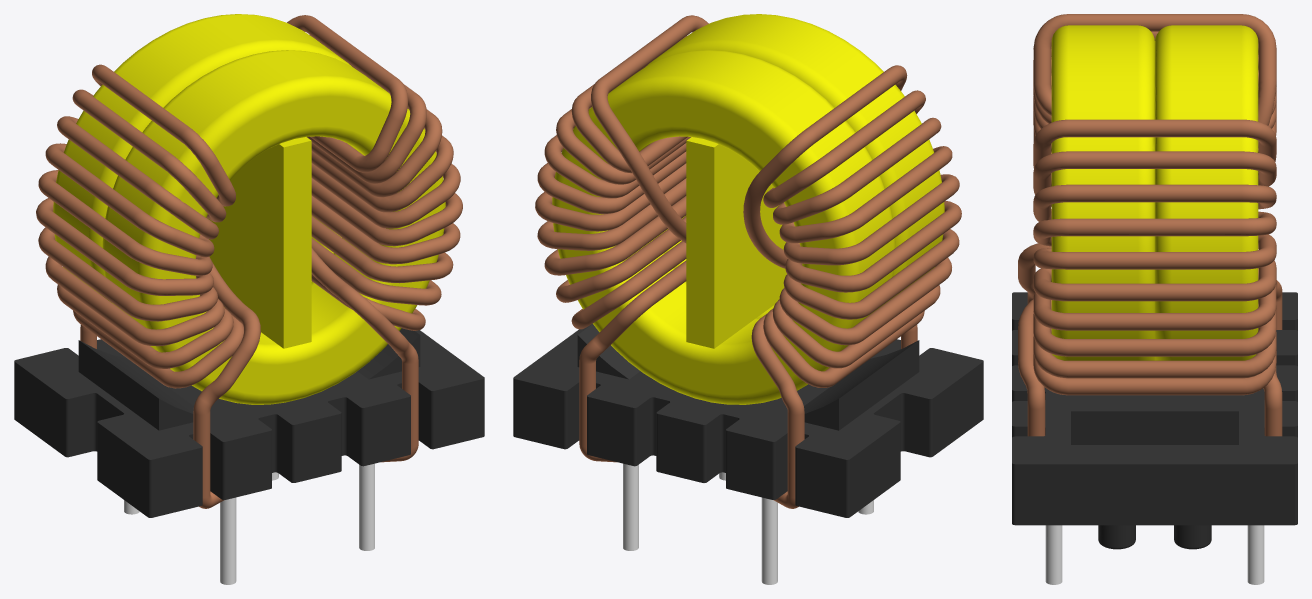
The model's file is WE-ExB Common Mode Power line choke.gltf.
3 renders of one model, left to right at view 1: azimuth 30°, elevation 25°; view 2: azimuth 150°, elevation 25°; view 3: azimuth 270°, elevation 25°, orthographic. The views are drawn at different scales.
Visible parts, largest first — view 1: Base, Turns, Core001, Turns001, dividing wall, Core; view 2: Base, Turns, Core, Turns001, dividing wall, Core001; view 3: Turns001, Base, Core001, Core, Turns.
Boxes of the visible parts, x1,y1,x2,y2 form: Base: [14, 328, 484, 584]; Turns: [36, 64, 260, 508]; Core001: [102, 50, 445, 404]; Turns001: [287, 15, 462, 462]; dividing wall: [206, 137, 311, 348]; Core: [53, 14, 351, 302]; Base: [513, 323, 983, 584]; Turns: [743, 65, 961, 508]; Core: [552, 50, 895, 404]; Turns001: [535, 15, 708, 462]; dividing wall: [686, 137, 786, 348]; Core001: [646, 14, 944, 318]; Turns001: [1018, 119, 1282, 436]; Base: [1012, 292, 1297, 584]; Core001: [1051, 25, 1154, 360]; Core: [1155, 25, 1258, 360]; Turns: [1018, 14, 1282, 329].
Bounding box in the file's own units: 0.0242 × 0.033 × 0.017.
